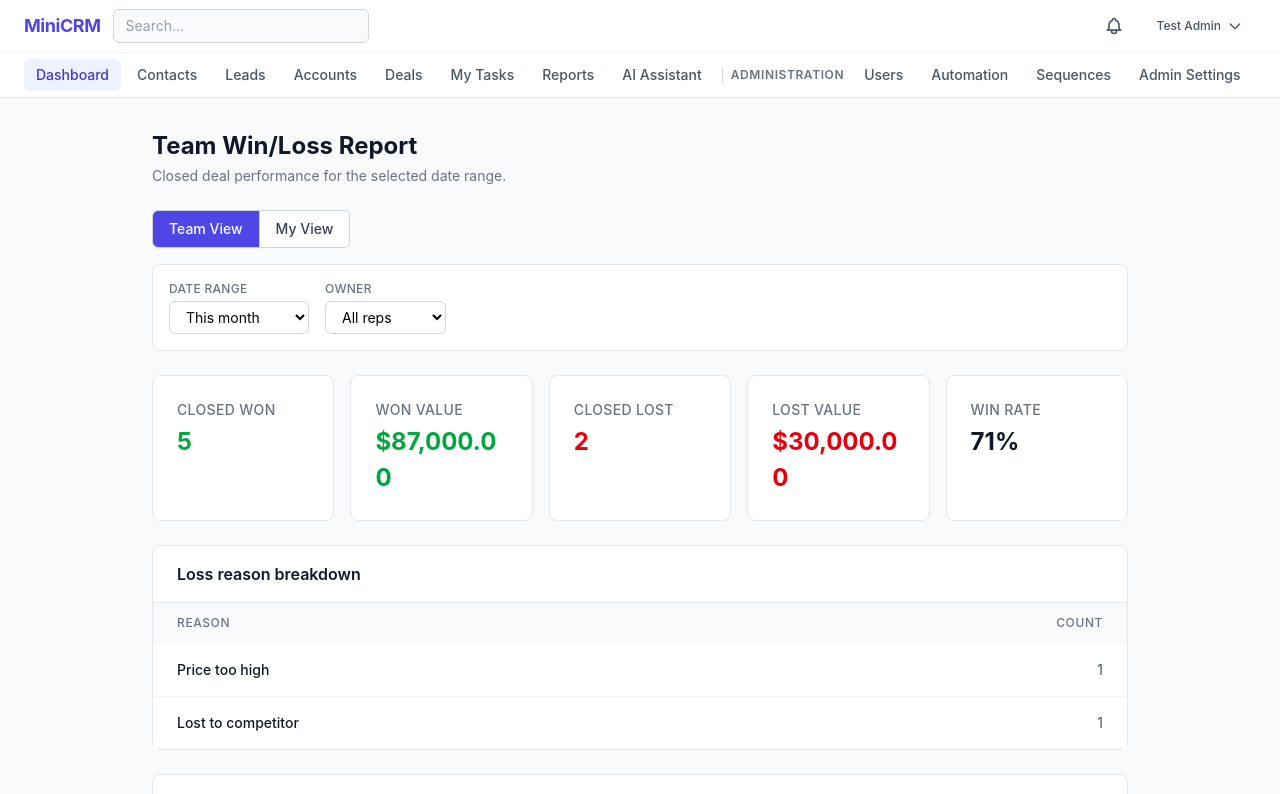
Test case: WinLossReportPage › date range controls › shows custom date inputs when "custom" preset is selected
Select "Custom range" in the dropdown with test id "date-preset-select" at (239,318), box left=169, top=301, right=309, bottom=334
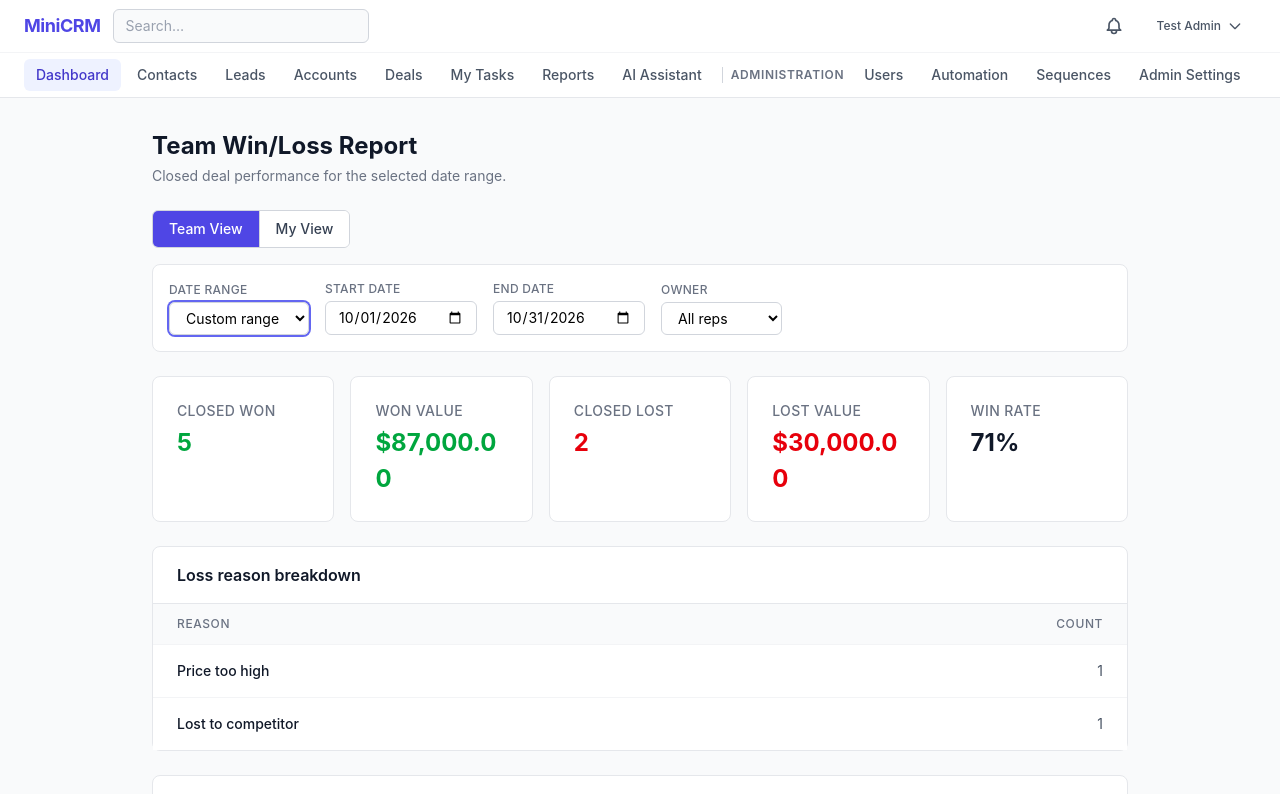
Result: the date field with test id "custom-start-input" is shown at left=325, top=301, right=477, bottom=335
Result: the date field with test id "custom-end-input" is shown at left=493, top=301, right=645, bottom=335
